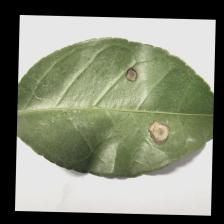canker: (116, 54, 176, 152)
